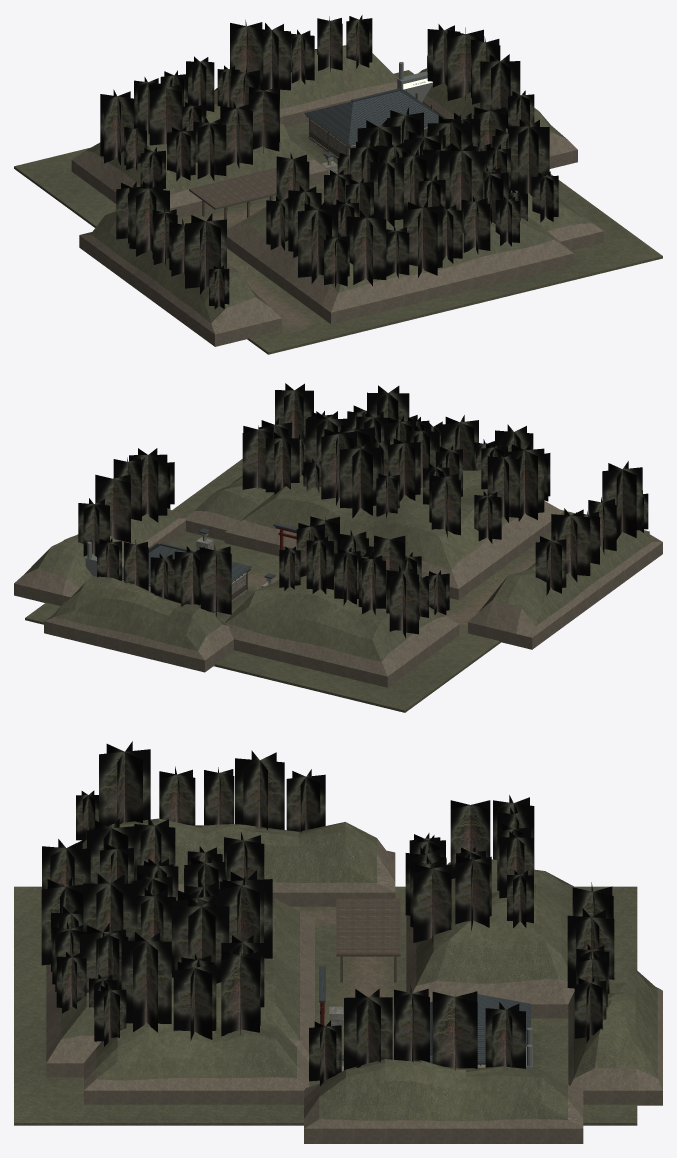
The model's file is mountain.glb.
3 renders of one model, top to bottom at view 1: azimuth 30°, elevation 25°; view 2: azimuth 150°, elevation 25°; view 3: azimuth 270°, elevation 25°, orthographic. The views are drawn at different scales.
Visible parts, largest first — view 1: MountainPines_central, MountainPines_west, Ground, MountainPines_east, South cliff, West ridge, North cliff, North ridge, Roof_Ruins, Far ridge, Tunnel roof, East cliff (+2 smaller); view 2: MountainPines_central, MountainPines_west, North cliff, South cliff, MountainPines_east, Ground, North ridge, West ridge, Far ridge, East cliff, Roof_Ruins; view 3: MountainPines_central, MountainPines_east, MountainPines_west, Ground, Far ridge, East cliff, North cliff, West ridge, South cliff, North ridge, Tunnel roof, Roof_Ruins.
Part boxes in pixels (<box>): MountainPines_central: <box>186,20,519,278</box>; MountainPines_west: <box>100,70,386,308</box>; Ground: <box>14,70,662,354</box>; MountainPines_east: <box>317,15,558,222</box>; South cliff: <box>227,189,573,323</box>; West ridge: <box>79,211,281,346</box>; North cliff: <box>71,104,328,218</box>; North ridge: <box>214,45,397,127</box>; Roof_Ruins: <box>304,88,443,146</box>; Far ridge: <box>418,68,577,168</box>; Tunnel roof: <box>189,167,276,209</box>; East cliff: <box>511,190,603,250</box>; MountainPines_central: <box>150,385,494,617</box>; MountainPines_west: <box>334,424,648,638</box>; North cliff: <box>225,575,459,687</box>; South cliff: <box>224,470,563,599</box>; MountainPines_east: <box>78,383,332,590</box>; Ground: <box>25,459,649,712</box>; North ridge: <box>44,576,233,672</box>; West ridge: <box>468,530,662,649</box>; Far ridge: <box>14,508,185,605</box>; East cliff: <box>185,476,274,540</box>; Roof_Ruins: <box>122,543,251,583</box>; MountainPines_central: <box>41,831,614,1013</box>; MountainPines_east: <box>89,932,607,1085</box>; MountainPines_west: <box>42,741,534,915</box>; Ground: <box>14,886,637,1125</box>; Far ridge: <box>304,1059,583,1143</box>; East cliff: <box>84,1007,309,1104</box>; North cliff: <box>406,859,576,1018</box>; West ridge: <box>82,818,395,906</box>; South cliff: <box>46,898,314,1077</box>; North ridge: <box>568,964,662,1105</box>; Tunnel roof: <box>336,898,400,956</box>; Roof_Ruins: <box>430,991,530,1065</box>.
Size of the model in its own units: 61.02 by 14.89 by 60.4.
22 materials, 13 textured.
